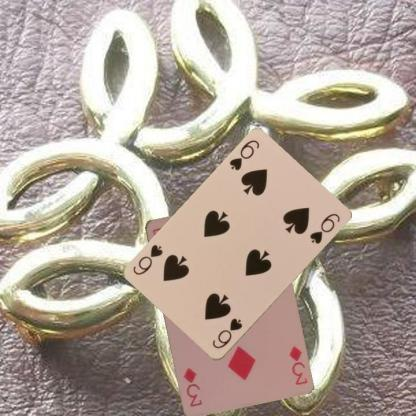3d: (286, 343, 309, 387)
6s: (226, 137, 260, 172), (210, 316, 244, 350)
